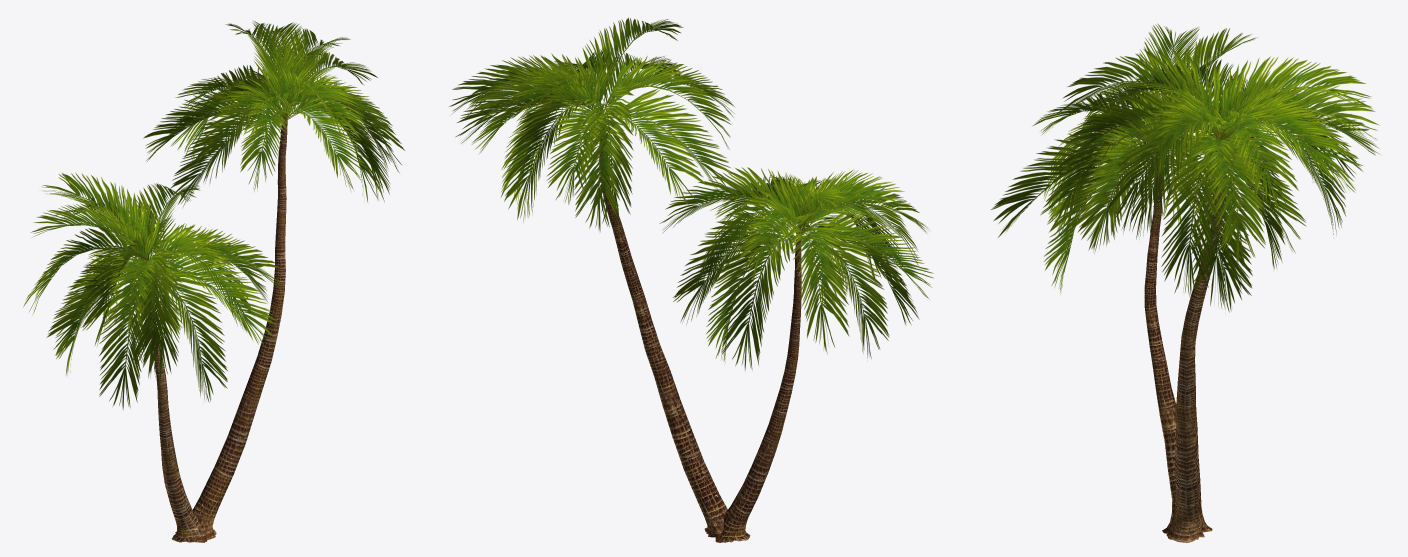
Rendered from palm1.glb.
The picture shows the model from 3 angles, left to right: view 1: azimuth 30°, elevation 25°; view 2: azimuth 150°, elevation 25°; view 3: azimuth 270°, elevation 25°; orthographic projection. The views are drawn at different scales.
Visible parts, largest first — view 1: Object_2, Object_3; view 2: Object_2, Object_3; view 3: Object_2, Object_3.
Boxes of the visible parts, x1,y1,x2,y2 form: Object_2: (23,20,404,409); Object_3: (147,119,287,542); Object_2: (449,17,933,370); Object_3: (599,118,801,542); Object_2: (990,23,1380,312); Object_3: (1144,139,1224,542).
Size of the model in its own units: 4.33 by 4.68 by 3.3.
2 materials, 2 textured.
